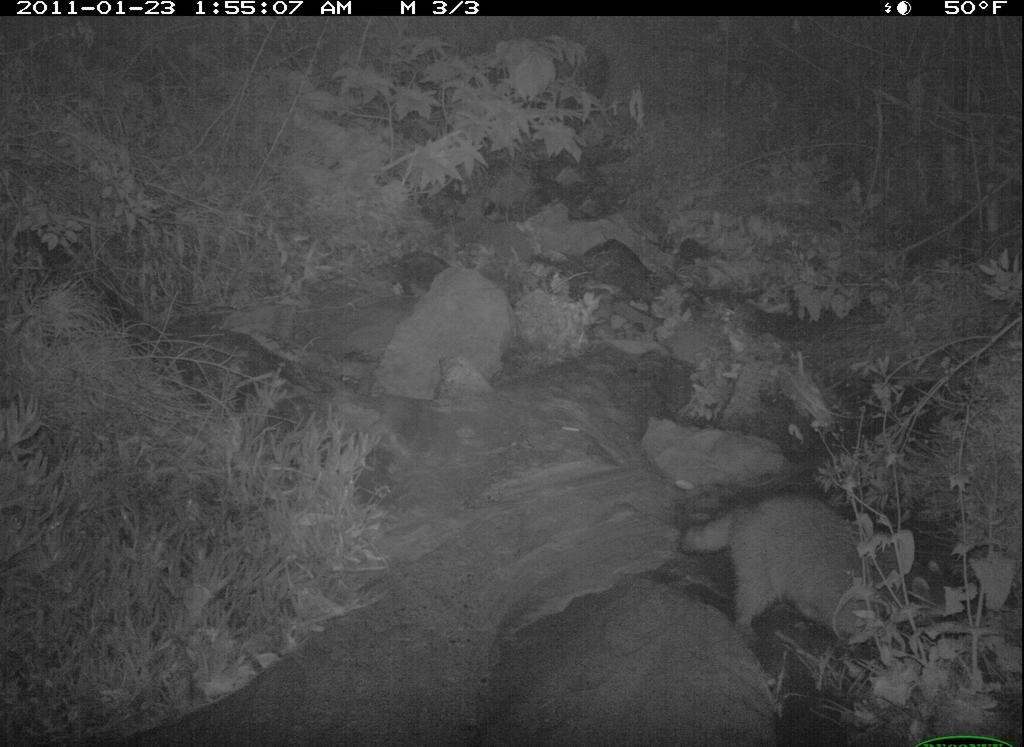raccoon: (702, 483, 925, 666)
